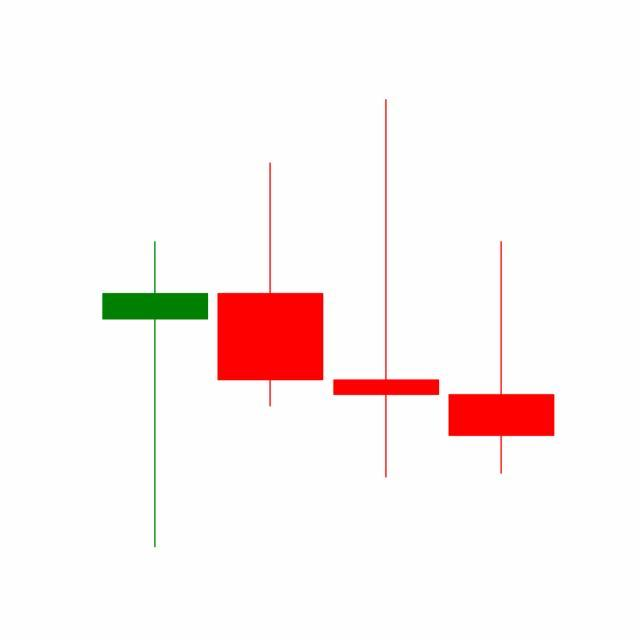Spinning Top: (329, 95, 445, 482)
